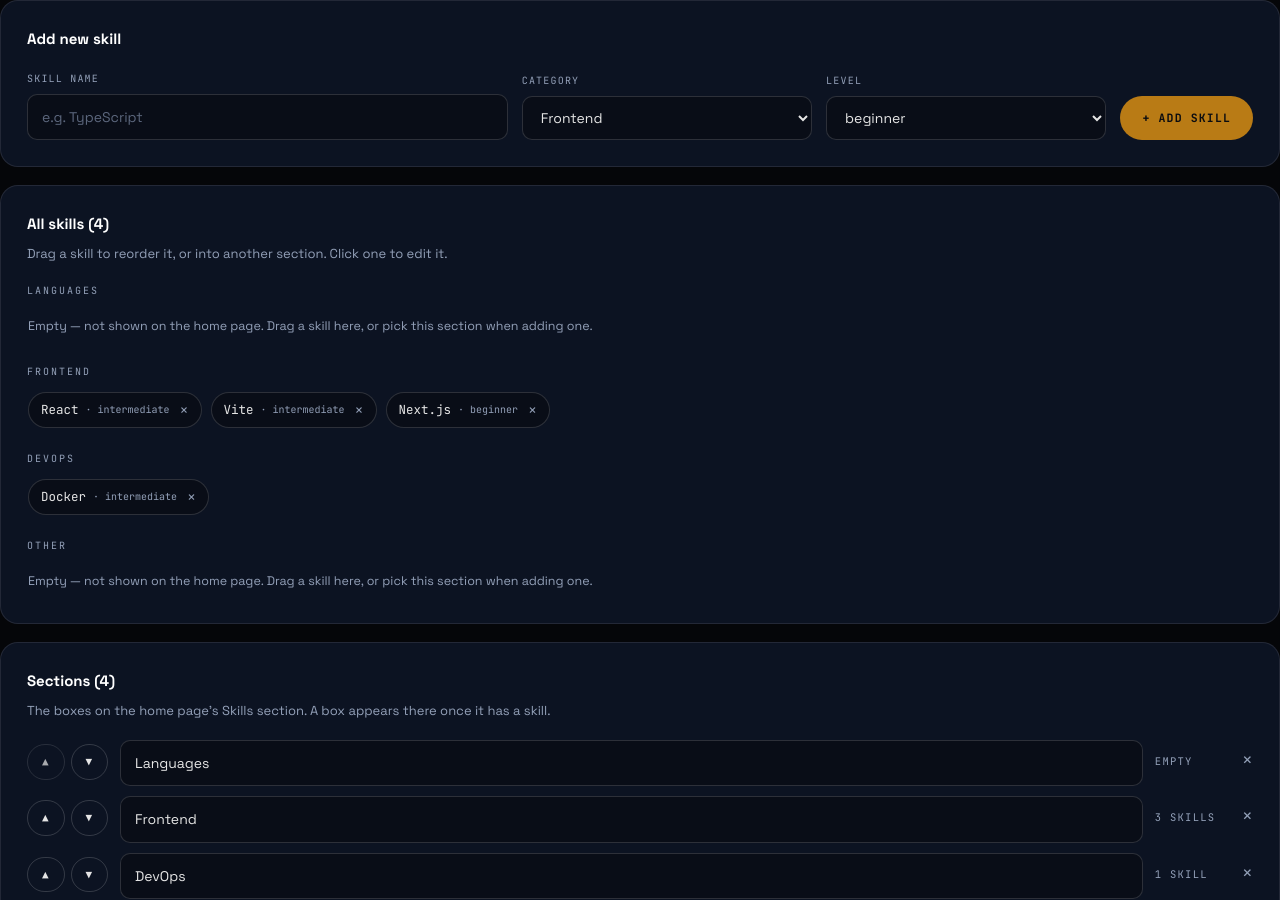
Test case: adding › ADD SKILL is dim until a name is typed
Expected: the button "+ ADD SKILL" is disabled, top-left (1120, 96), bottom-right (1253, 140)
In the field labelled "Skill name": (267, 117) top-left (27, 94), bottom-right (508, 140), type "Rust"
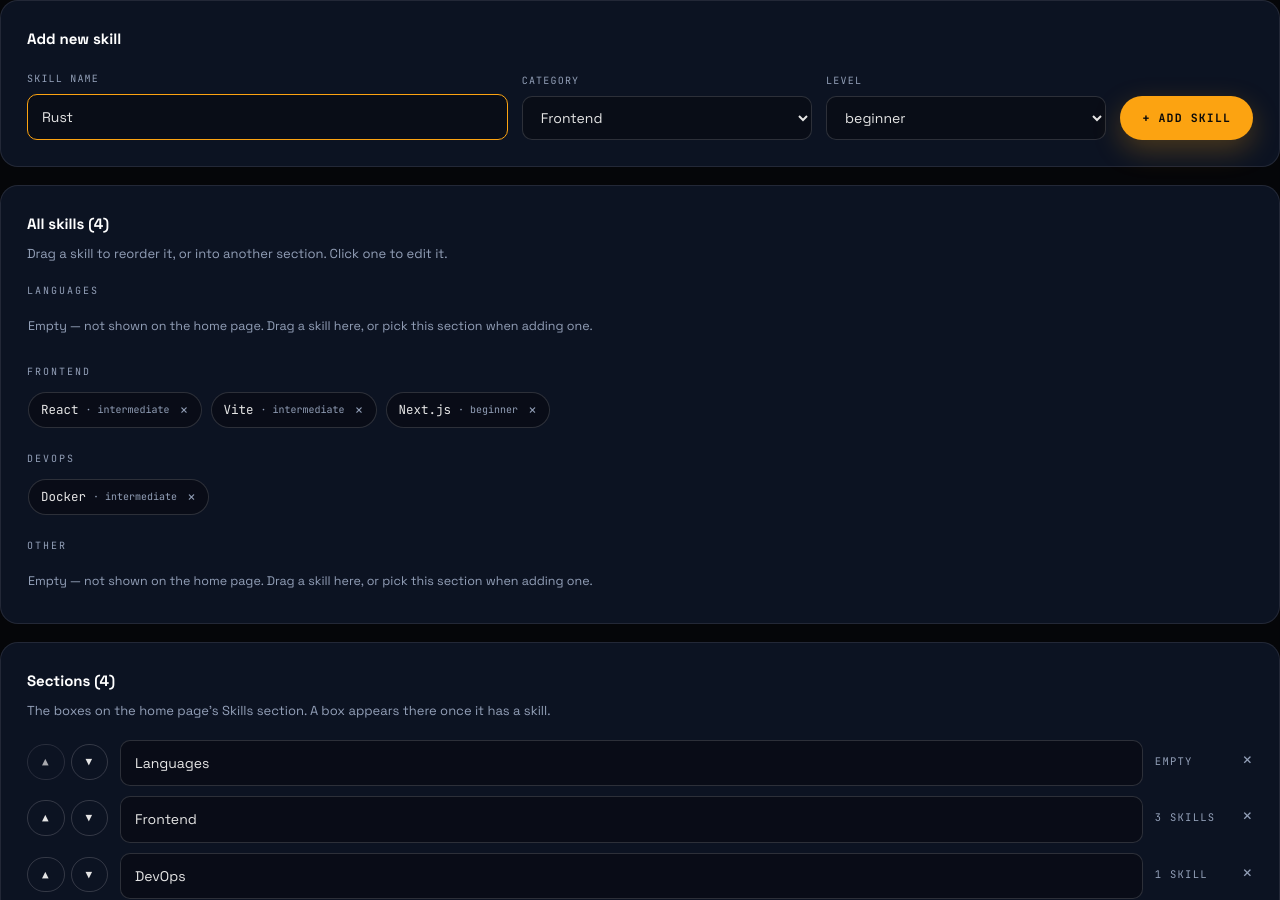
Expected: the button "+ ADD SKILL" is enabled, top-left (1120, 96), bottom-right (1253, 140)
